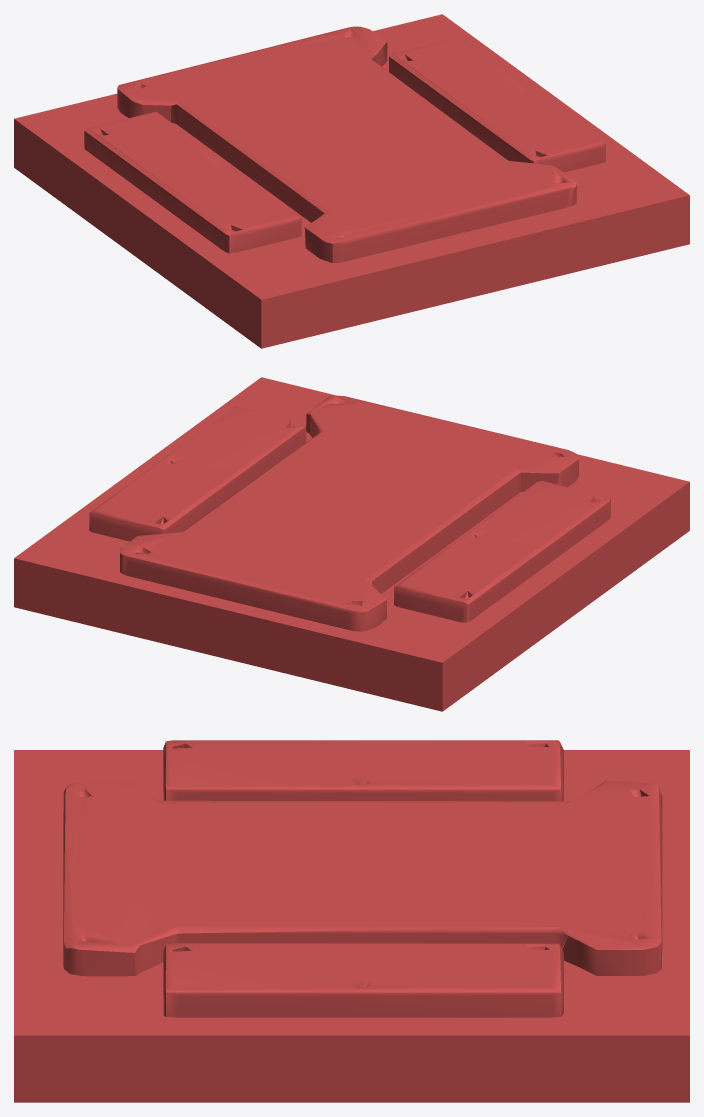
The model's file is Final_ComplexWall_1x1_04.FBX.
The picture shows the model from 3 angles, top to bottom: view 1: azimuth 30°, elevation 25°; view 2: azimuth 150°, elevation 25°; view 3: azimuth 270°, elevation 25°; orthographic projection. The views are drawn at different scales.
Visible parts, largest first — view 1: Final_ComplexWall_1x1_04; view 2: Final_ComplexWall_1x1_04; view 3: Final_ComplexWall_1x1_04.
Part boxes in pixels (<box>): Final_ComplexWall_1x1_04: <box>14,14,689,348</box>; Final_ComplexWall_1x1_04: <box>14,377,689,711</box>; Final_ComplexWall_1x1_04: <box>14,740,689,1102</box>.
Bounding box in the file's own units: 200 × 200 × 31.06.
